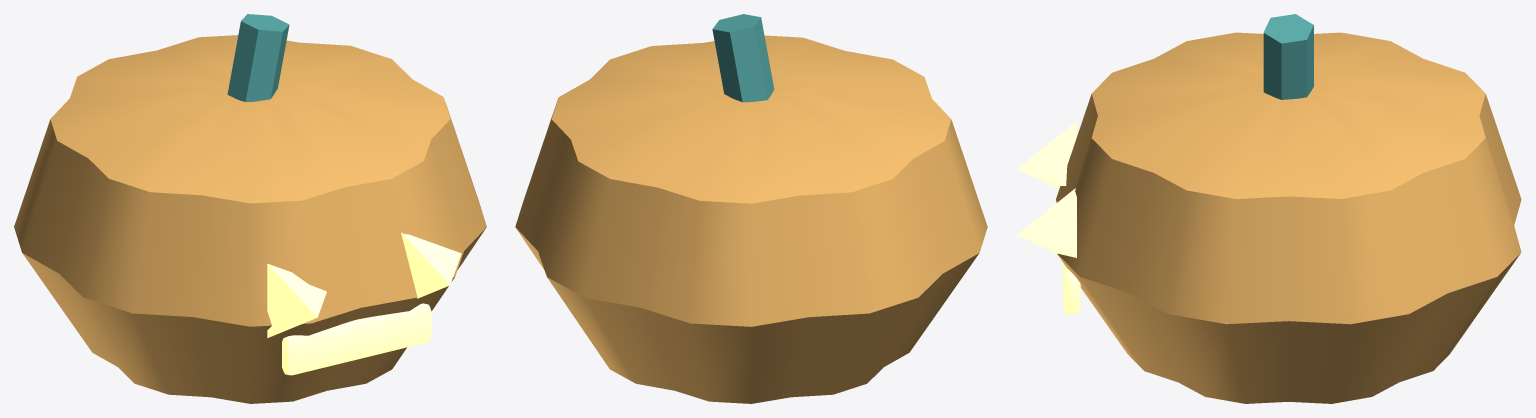
Rendered from PumpkinLantern.fbx.
The picture shows the model from 3 angles, left to right: view 1: azimuth 30°, elevation 25°; view 2: azimuth 150°, elevation 25°; view 3: azimuth 270°, elevation 25°; orthographic projection. The views are drawn at different scales.
Parts seen in each view (by area): view 1: PumpkinLantern; view 2: PumpkinLantern; view 3: PumpkinLantern.
Boxes of the visible parts, x1,y1,x2,y2 form: PumpkinLantern: (14, 14, 486, 403); PumpkinLantern: (515, 14, 987, 403); PumpkinLantern: (1017, 14, 1521, 403).
Size of the model in its own units: 2.69 by 2.13 by 2.91.
